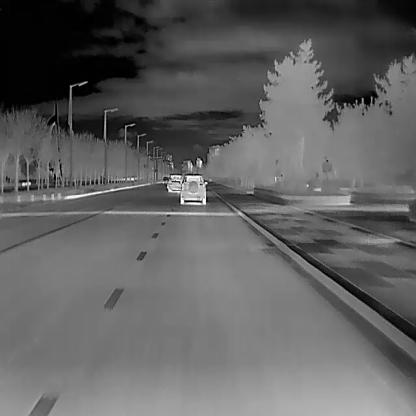car: (179, 173, 207, 204), (166, 172, 182, 193), (162, 175, 168, 183)
